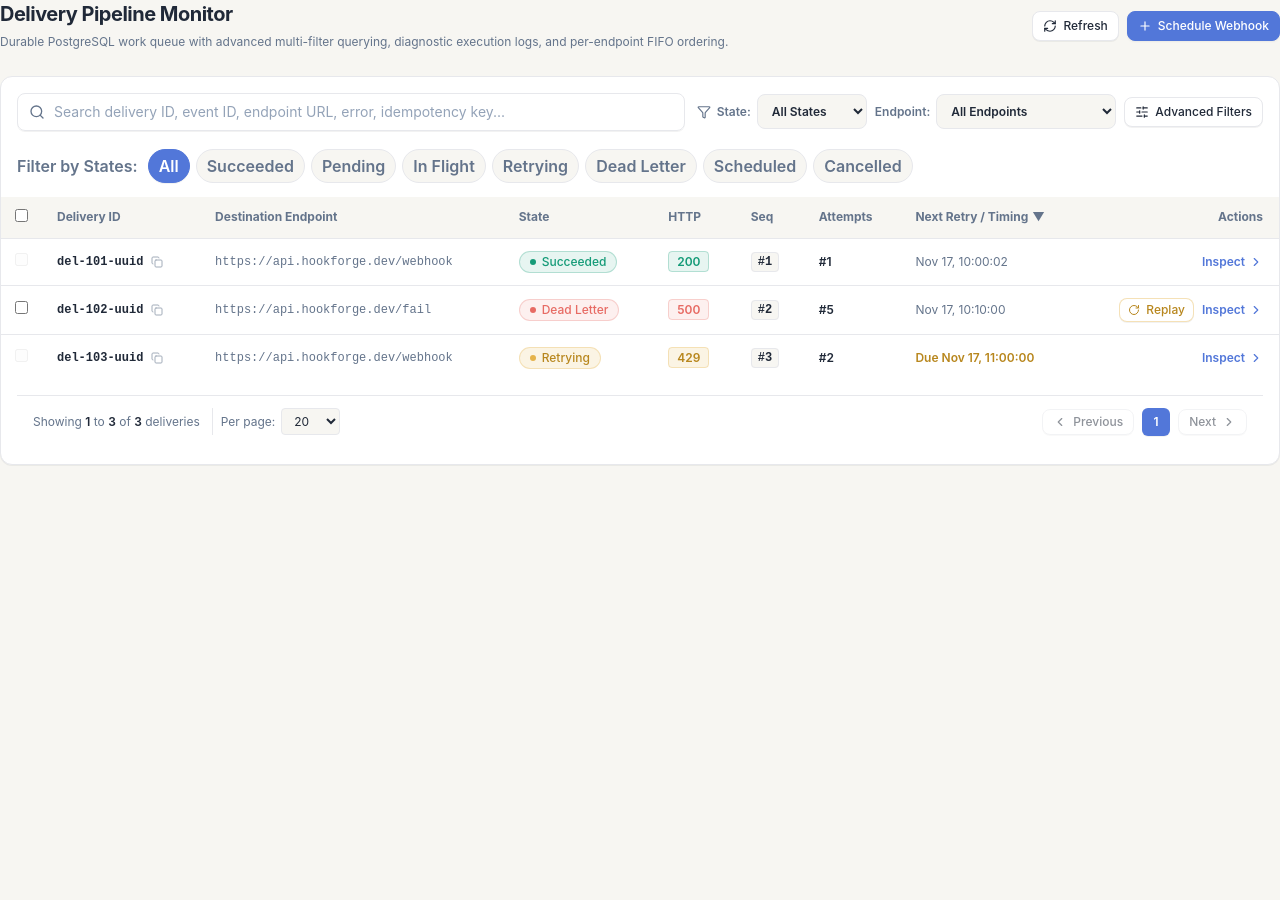
Test: DeliveriesPage Component › Dead Letter Replay & Drawer Integration › opens DeliveryDetailDrawer when clicking a delivery row
Expected: the text "del-101-uuid" is shown, [57,254,143,270]
Click the text "del-101" at (640, 262), box [1,238,1279,285]
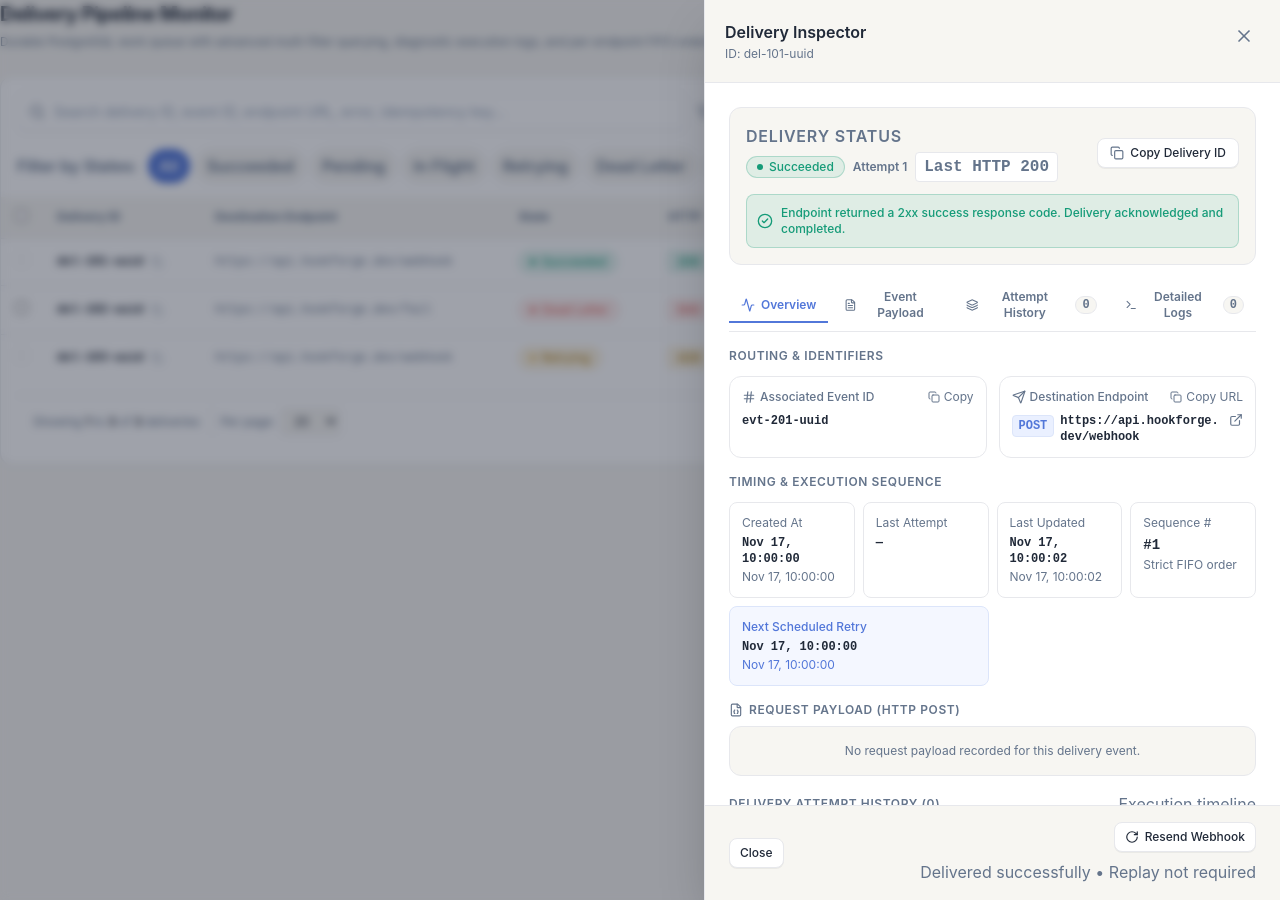
Expected: the heading "Delivery Inspector" is shown, [725,20,866,44]
